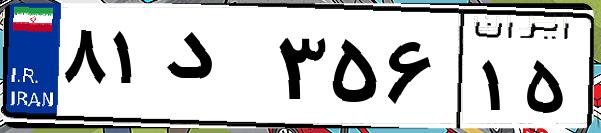1: (475, 38, 525, 113), (110, 28, 158, 98)
3: (270, 28, 330, 110)
5: (330, 28, 385, 110), (525, 38, 570, 115)
6: (385, 28, 445, 110)
8: (57, 26, 110, 100)
د: (158, 20, 270, 120)
